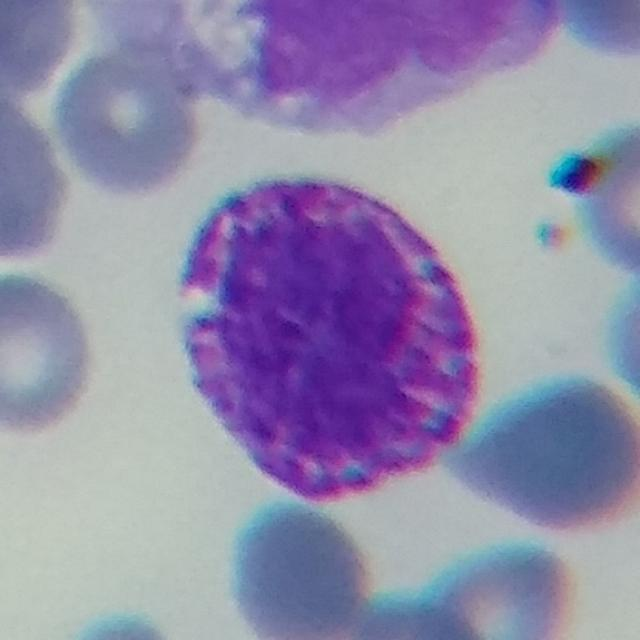baso: (173, 163, 494, 505)
